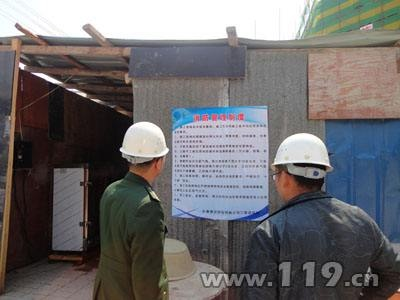white: (273, 128, 329, 203), (119, 120, 169, 182)
